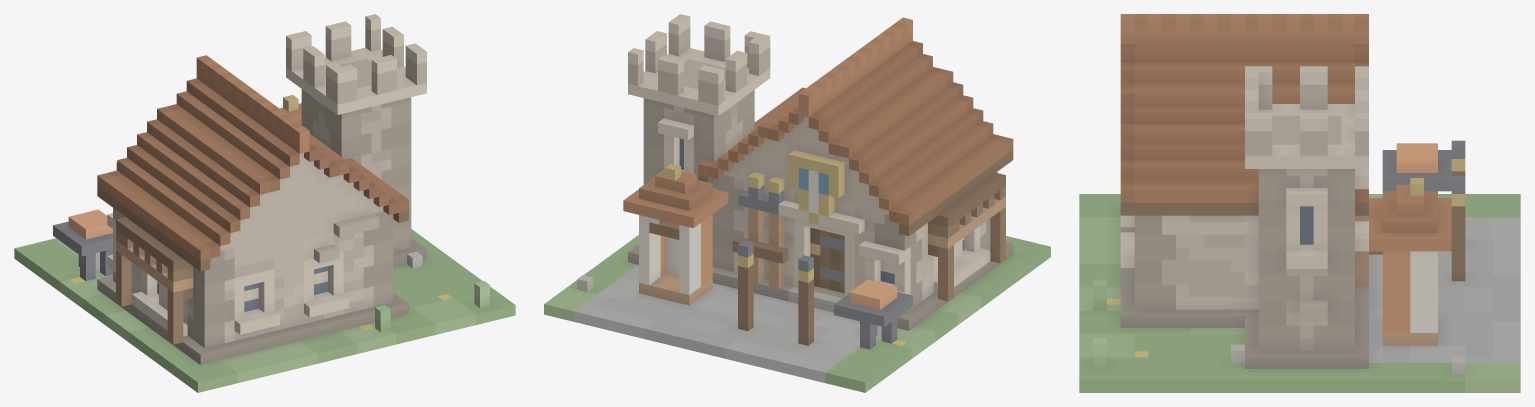
Rendered from city_guard.glb.
3 renders of one model, left to right at view 1: azimuth 30°, elevation 25°; view 2: azimuth 150°, elevation 25°; view 3: azimuth 270°, elevation 25°, orthographic. The views are drawn at different scales.
Parts seen in each view (by area): view 1: city_guard; view 2: city_guard; view 3: city_guard.
Part boxes in pixels (x1=…): city_guard: x1=14, y1=14, x2=515, y2=392; city_guard: x1=544, y1=14, x2=1050, y2=392; city_guard: x1=1079, y1=14, x2=1520, y2=392.
Size of the model in its own units: 4 by 2.62 by 4.
